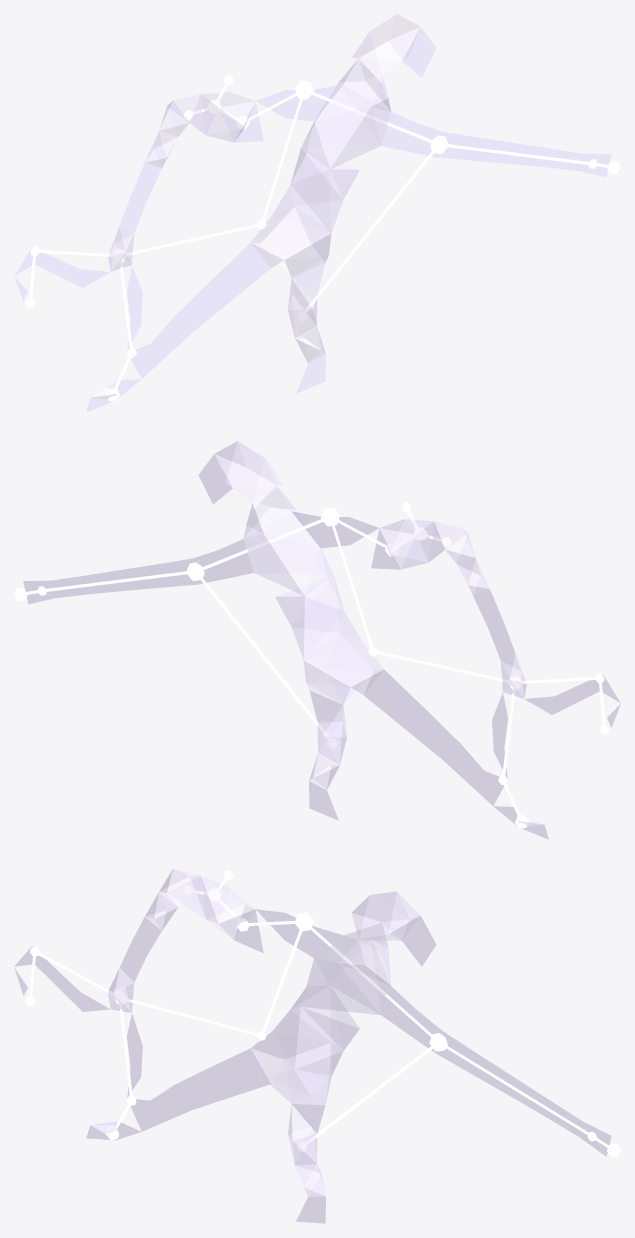
The model's file is 11_Aquarius.glb.
3 renders of one model, top to bottom at view 1: azimuth 30°, elevation 25°; view 2: azimuth 150°, elevation 25°; view 3: azimuth 330°, elevation 25°, orthographic.
Visible parts, largest first — view 1: Aquarius; view 2: Aquarius; view 3: Aquarius.
Part boxes in pixels (x1=…): Aquarius: x1=14, y1=14, x2=620, y2=412; Aquarius: x1=14, y1=441, x2=620, y2=839; Aquarius: x1=14, y1=868, x2=620, y2=1223.
Bounding box in the file's own units: 1.71 × 0.9595 × 0.1796.
